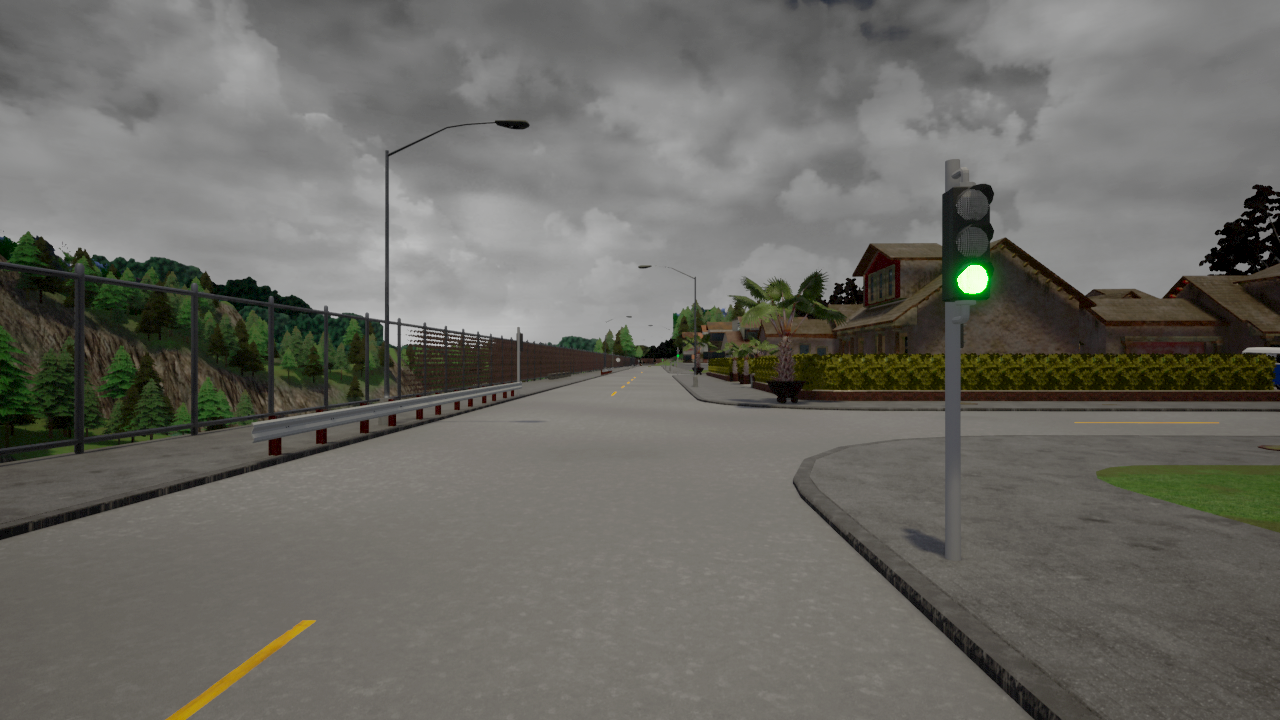green: (937, 182, 992, 309)
